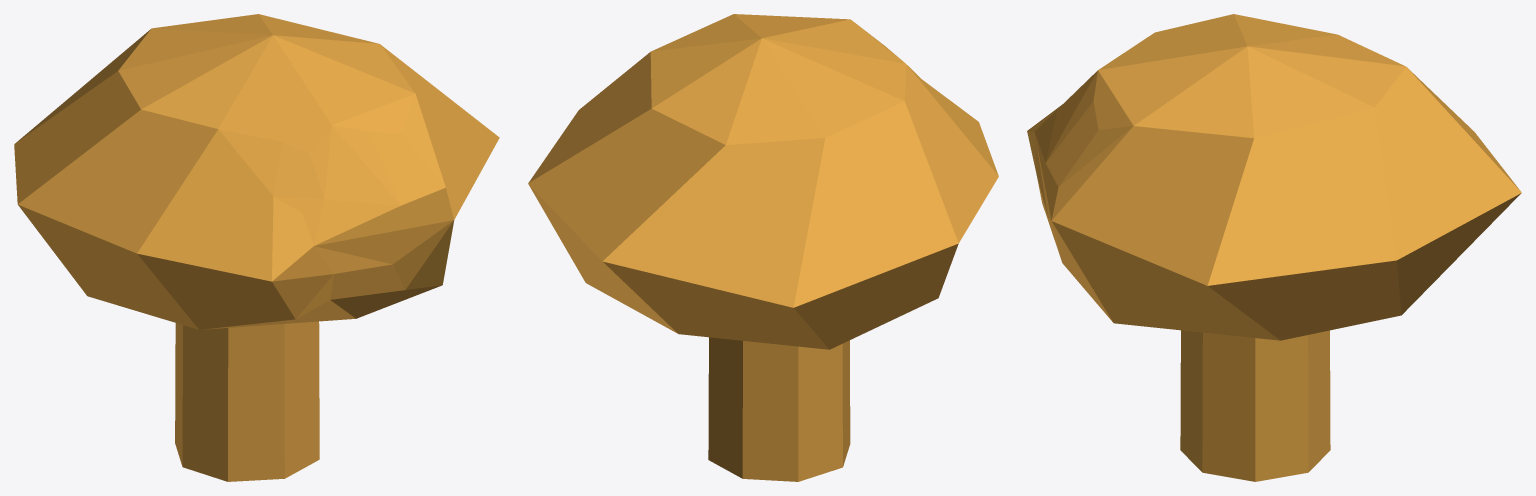
File: mushroom-magical-champignon-b.fbx
3 renders of one model, left to right at view 1: azimuth 30°, elevation 25°; view 2: azimuth 150°, elevation 25°; view 3: azimuth 270°, elevation 25°, orthographic. The views are drawn at different scales.
Visible parts, largest first — view 1: mushroom-magical-champignon-b; view 2: mushroom-magical-champignon-b; view 3: mushroom-magical-champignon-b.
Boxes of the visible parts, <box> form: mushroom-magical-champignon-b: <box>14,14,499,481</box>; mushroom-magical-champignon-b: <box>528,14,998,481</box>; mushroom-magical-champignon-b: <box>1027,14,1521,481</box>.
Bounding box in the file's own units: 0.179 × 0.1628 × 0.1761.
